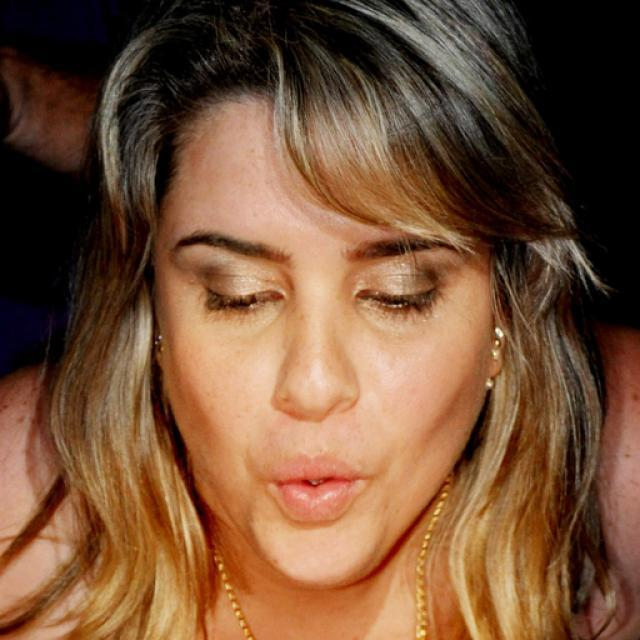neutral: (156, 67, 495, 588)
